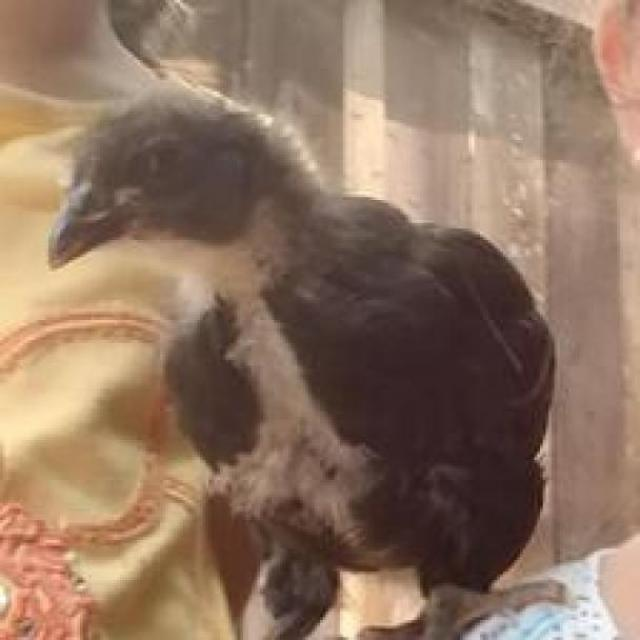Chicken: (65, 85, 608, 640)
